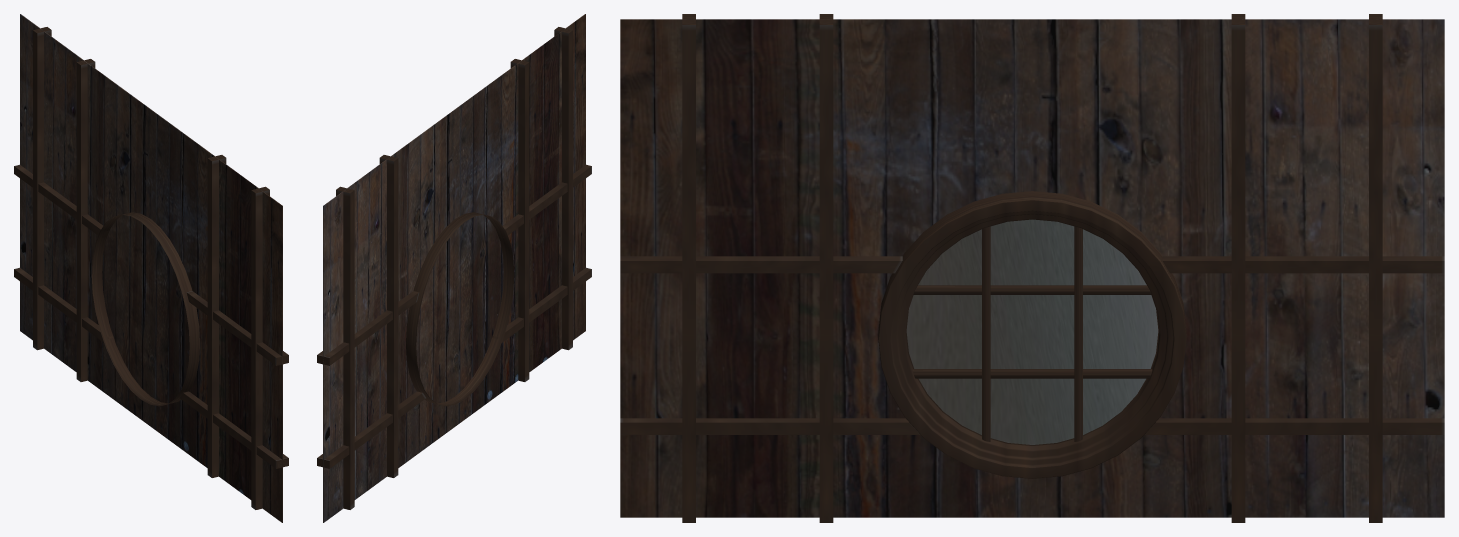
Rendered from OutdoorArchitecture_SingleObjects_LargeWindowWall_BShortt.fbx.
The picture shows the model from 3 angles, left to right: view 1: azimuth 30°, elevation 25°; view 2: azimuth 150°, elevation 25°; view 3: azimuth 270°, elevation 25°; orthographic projection. The views are drawn at different scales.
Visible parts, largest first — view 1: OutdoorArchitecture_SingleObjects_LargeWindowWall_BShortt; view 2: OutdoorArchitecture_SingleObjects_LargeWindowWall_BShortt; view 3: OutdoorArchitecture_SingleObjects_LargeWindowWall_BShortt.
Part boxes in pixels (bbox=[...]): OutdoorArchitecture_SingleObjects_LargeWindowWall_BShortt: bbox=[14, 14, 288, 522]; OutdoorArchitecture_SingleObjects_LargeWindowWall_BShortt: bbox=[317, 14, 591, 522]; OutdoorArchitecture_SingleObjects_LargeWindowWall_BShortt: bbox=[620, 14, 1444, 522].
Size of the model in its own units: 44.9 by 600 by 900.
